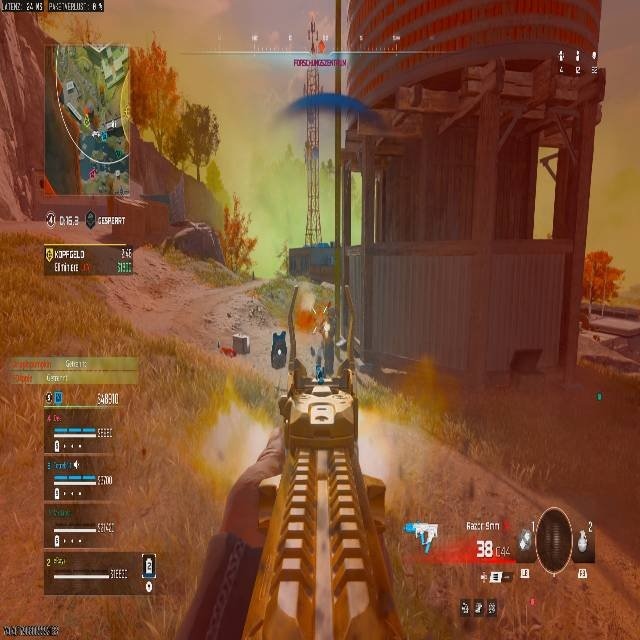player: (314, 360, 325, 383)
